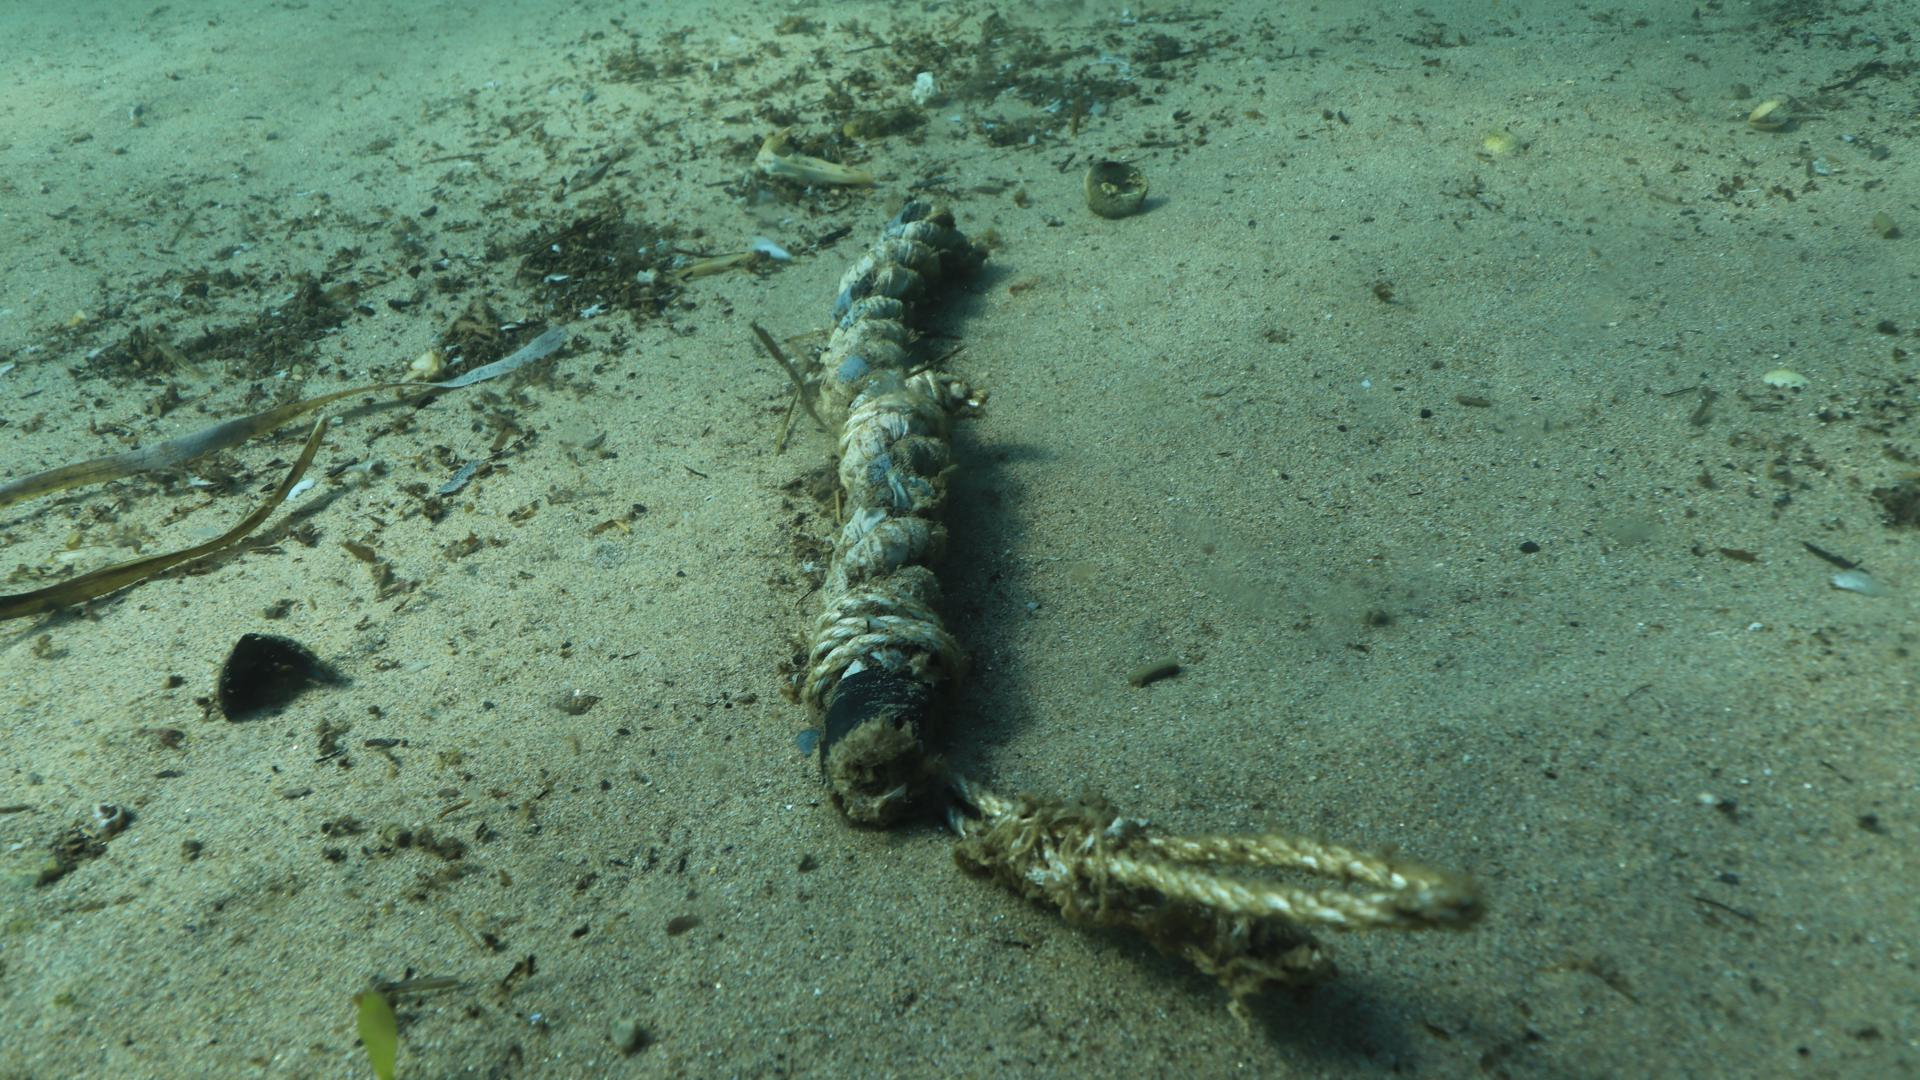bundle of ropes: (816, 196, 975, 818), (947, 779, 1493, 936)
